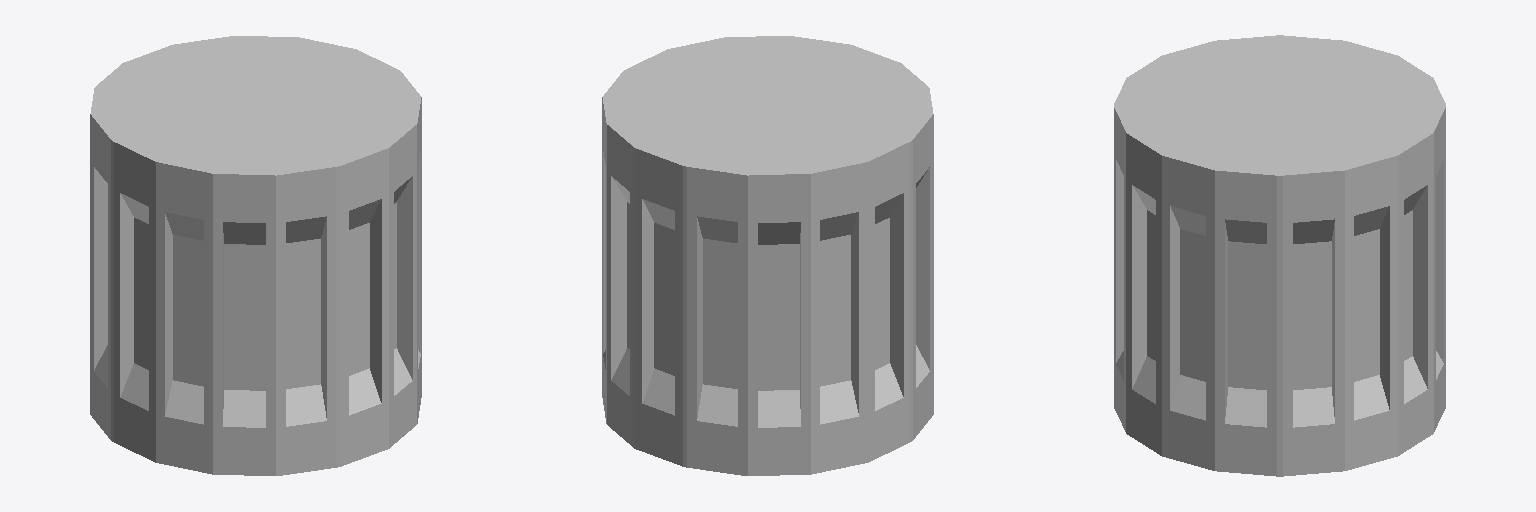
The model's file is pillar.obj.
The picture shows the model from 3 angles: view 1: azimuth 30°, elevation 25°; view 2: azimuth 150°, elevation 25°; view 3: azimuth 270°, elevation 25°; orthographic projection.
Visible parts, largest first — view 1: Cube; view 2: Cube; view 3: Cube.
Part boxes in pixels (x1,y1,x2,y2): Cube: (90, 36, 421, 475); Cube: (602, 36, 933, 475); Cube: (1114, 35, 1445, 476).
Bounding box in the file's own units: 2 × 2 × 2.